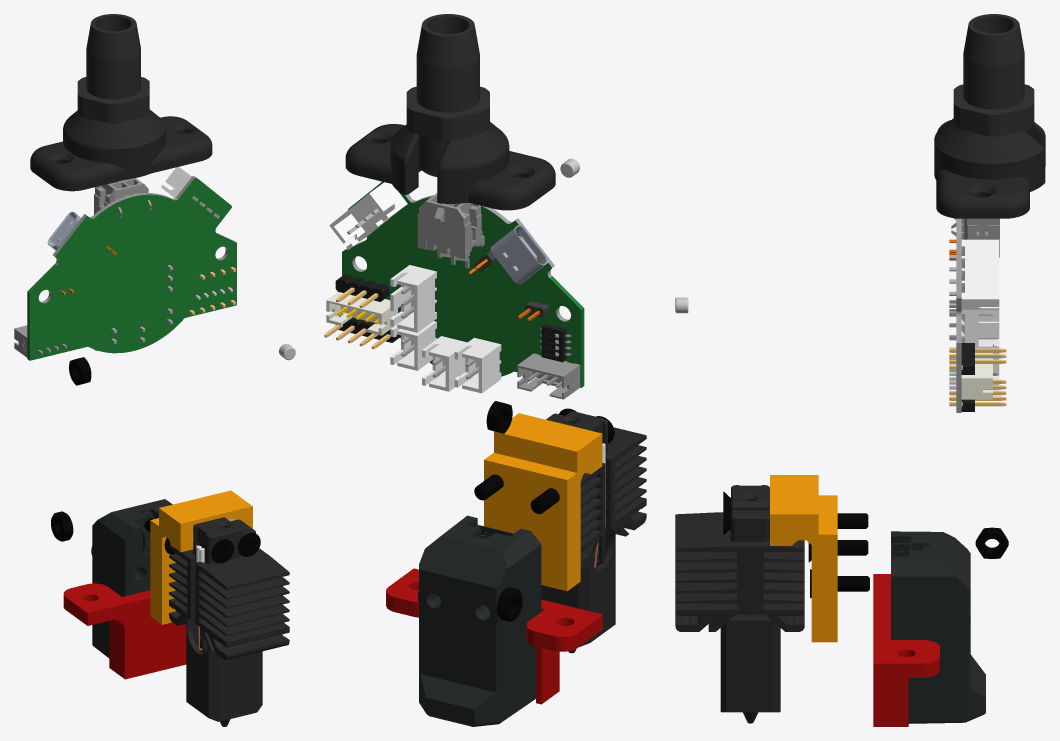
File: RX-H2S Gear toolhead 5015 V4.5.3.x_t.glb
3 views of the same model, side by side, from view 1: azimuth 30°, elevation 25°; view 2: azimuth 150°, elevation 25°; view 3: azimuth 270°, elevation 25° (orthographic). The views are drawn at different scales.
Size of the model in its own units: 0.0514 by 0.1476 by 0.0711.
